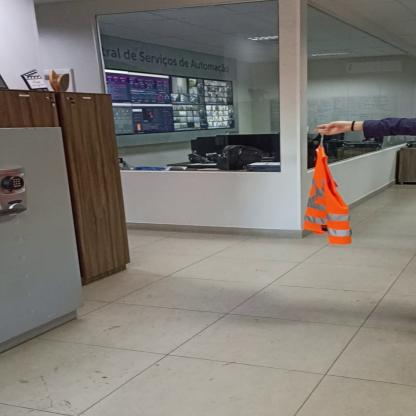colete: (304, 145, 355, 246)
